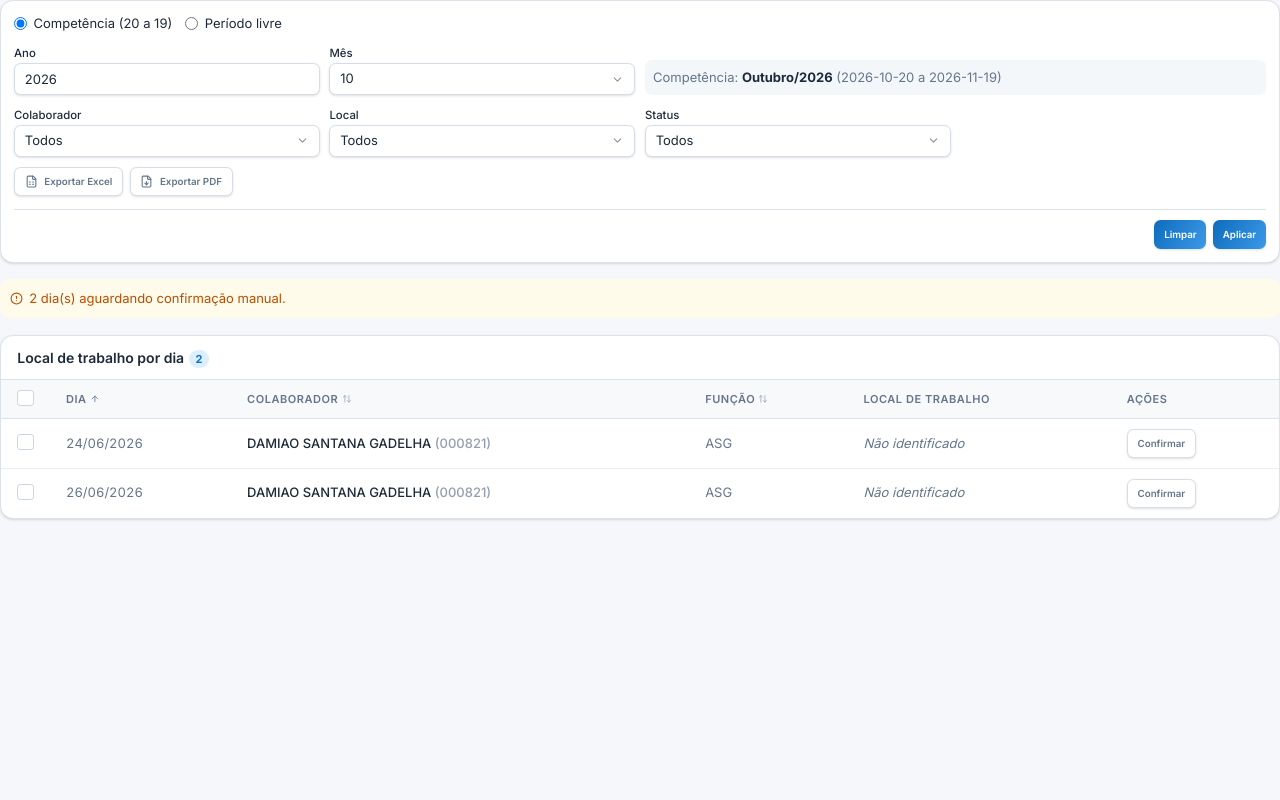
AbaEscalasDiario — confirmação de local › modal omite a seção de locais recentes quando o colaborador não tem nenhum dia identificado
What coordinates should you click on to do the following:
click the button "Confirmar" in the row of "24/06/2026"
I would click on:
 (1161, 443)
Its box is [1127, 429, 1196, 458].
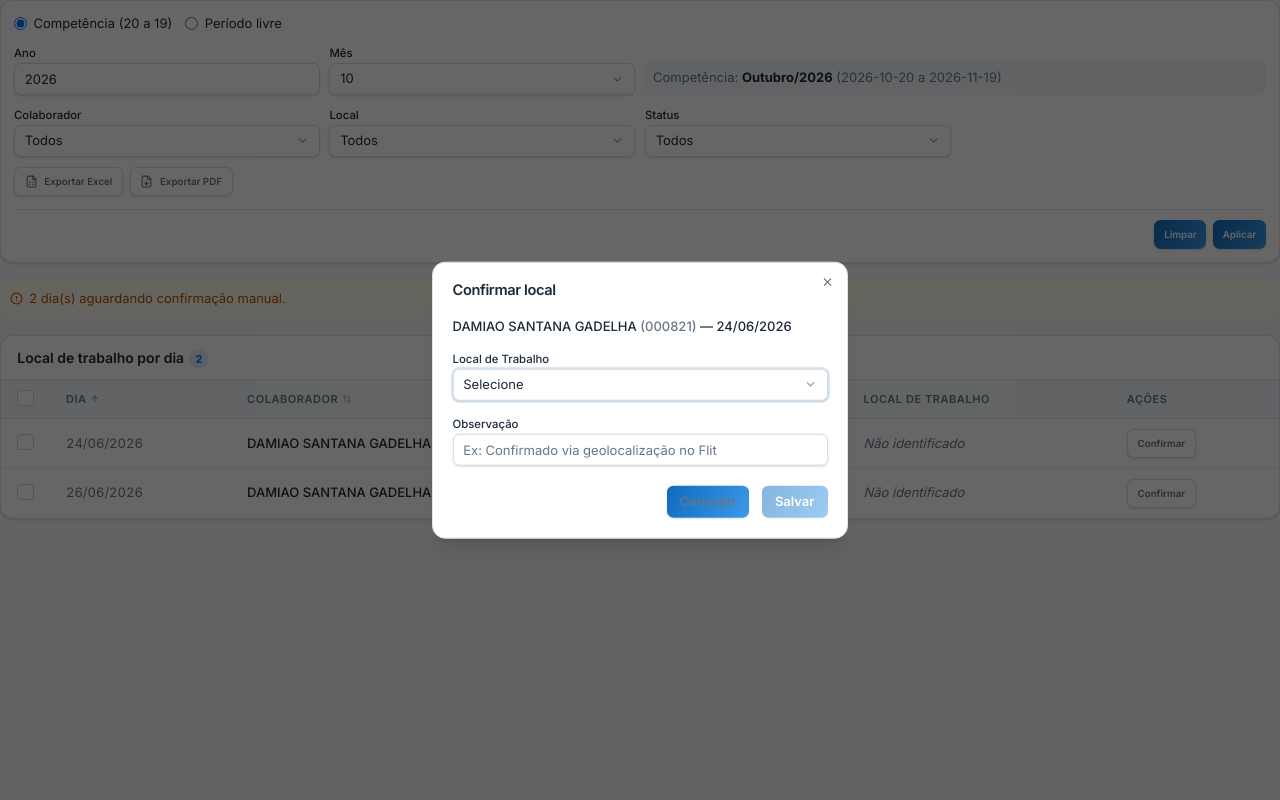
expect the heading "Confirmar local" is shown: met, box [452, 280, 556, 298]
